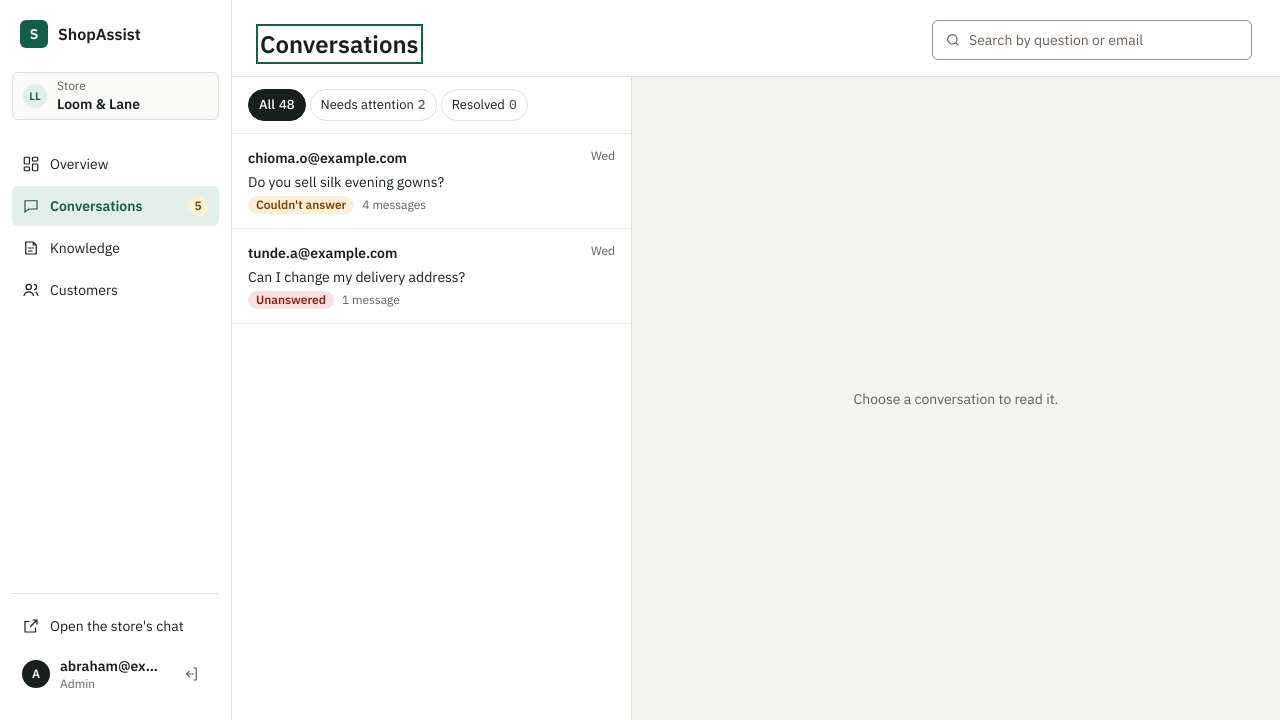
it: search › an older reply that arrives last never replaces the newer one
Type "silk" into the search field named "Search conversations" at (1104, 40), box [969,21,1239,59]
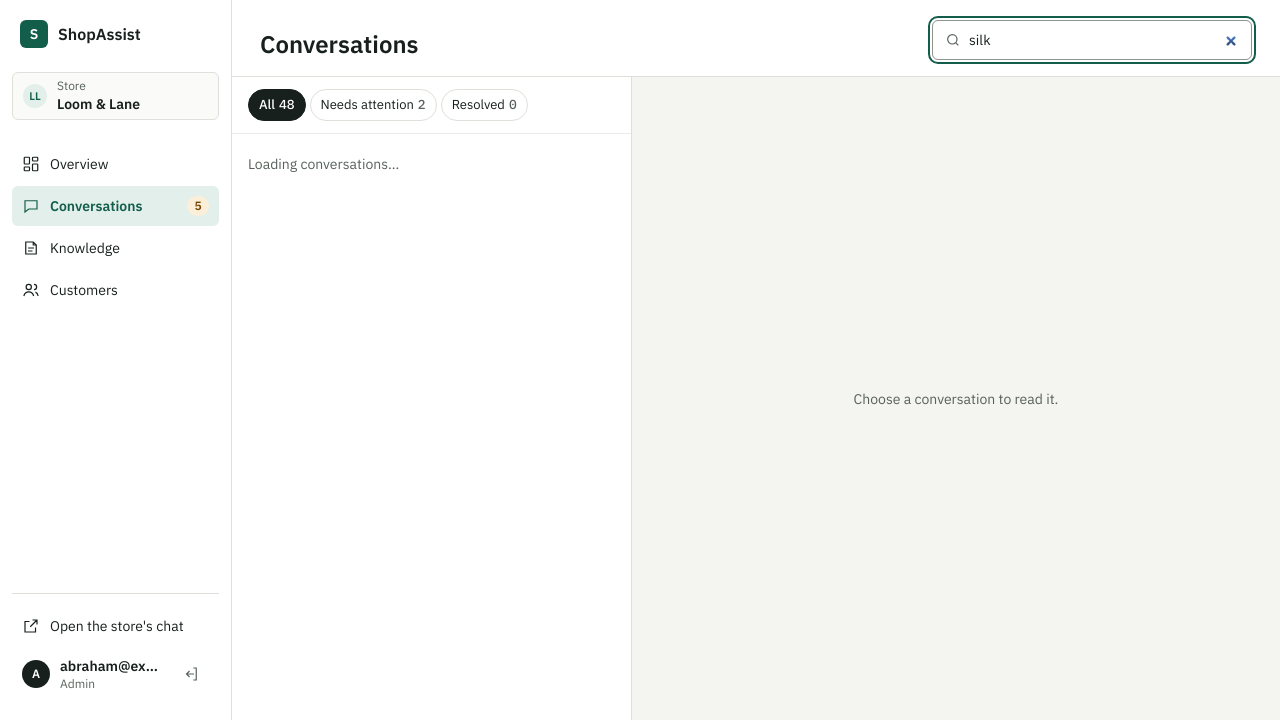
Type " gown" into the search field named "Search conversations" at (1104, 40), box [969,21,1239,59]
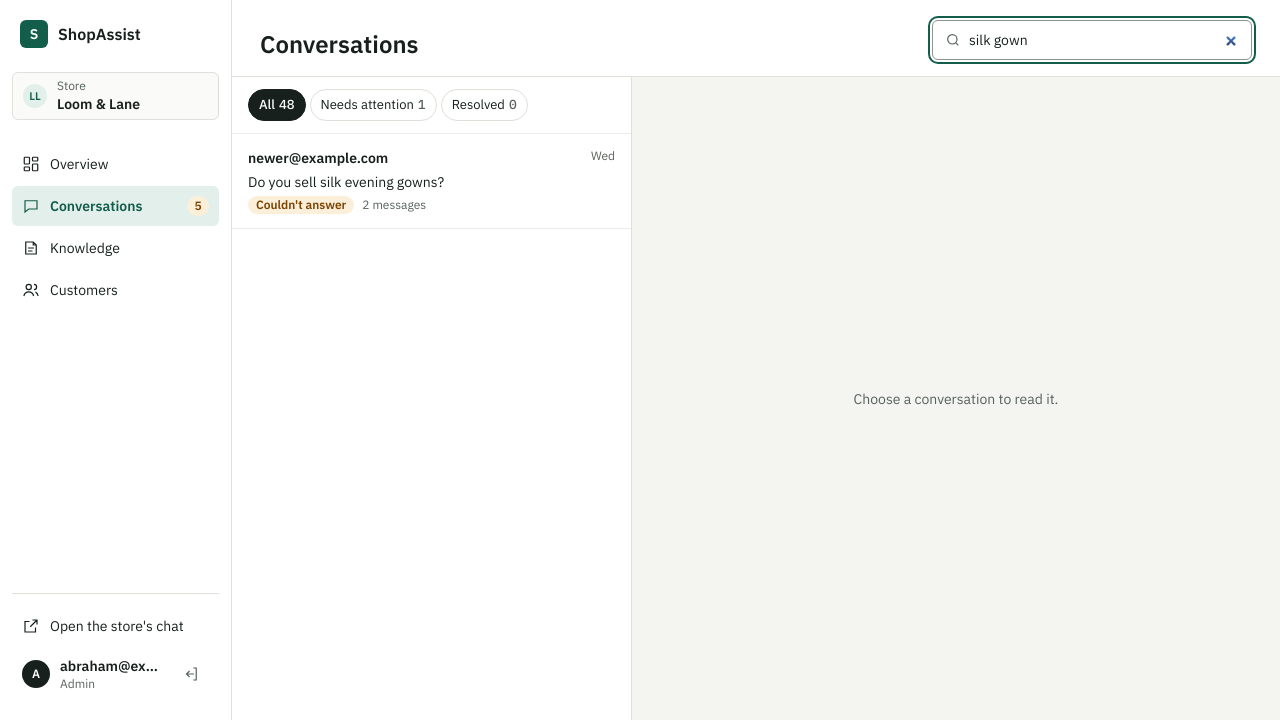
expect the link "newer@example.com" is shown: met, box [232,134,631,229]
